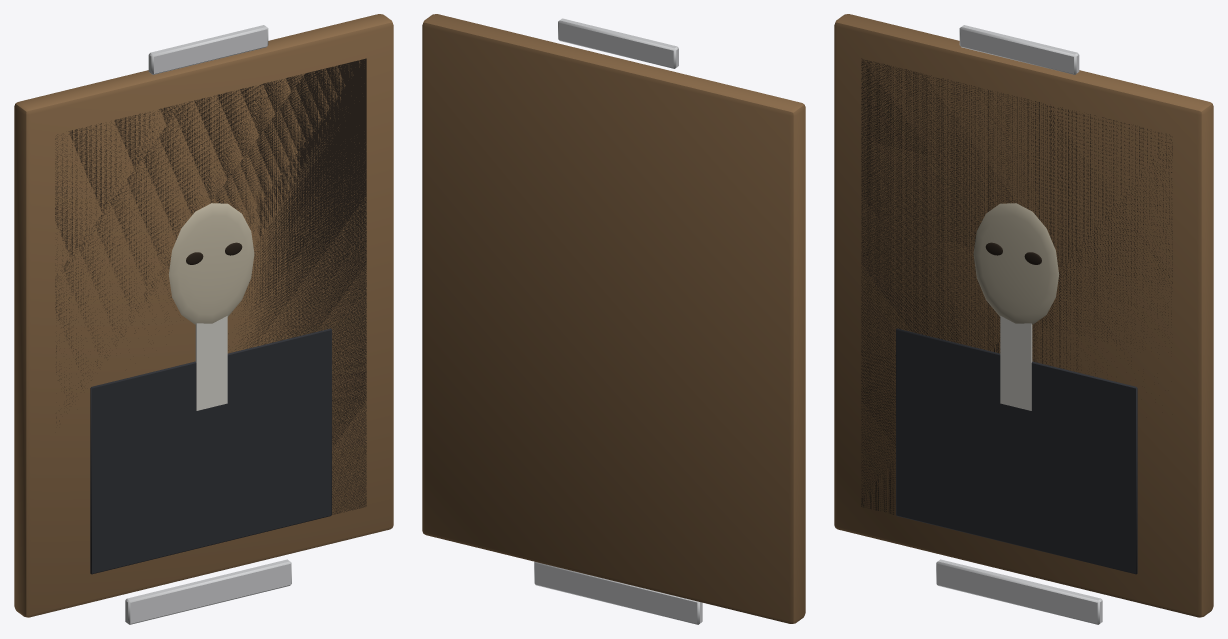
The model's file is portrait.glb.
The picture shows the model from 3 angles, left to right: view 1: azimuth 30°, elevation 25°; view 2: azimuth 150°, elevation 25°; view 3: azimuth 330°, elevation 25°; orthographic projection.
Visible parts, largest first — view 1: portrait; view 2: portrait; view 3: portrait.
Part boxes in pixels (bbox=[...]): portrait: bbox=[14, 14, 393, 624]; portrait: bbox=[422, 14, 805, 624]; portrait: bbox=[834, 14, 1213, 624].
Size of the model in its own units: 0.95 by 1.38 by 0.078.
